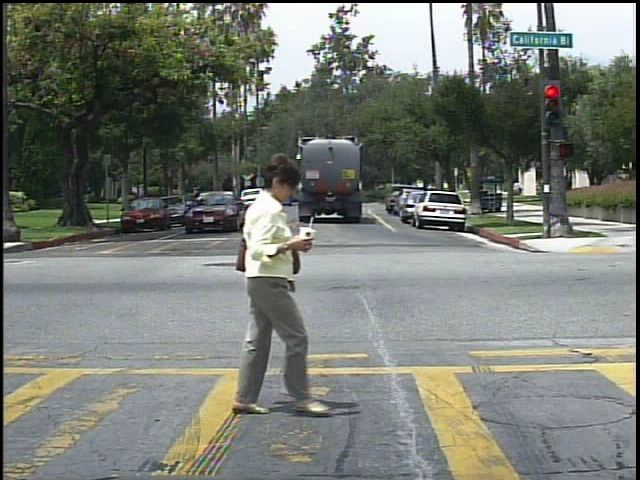person: (211, 151, 331, 423), (515, 181, 528, 200)
